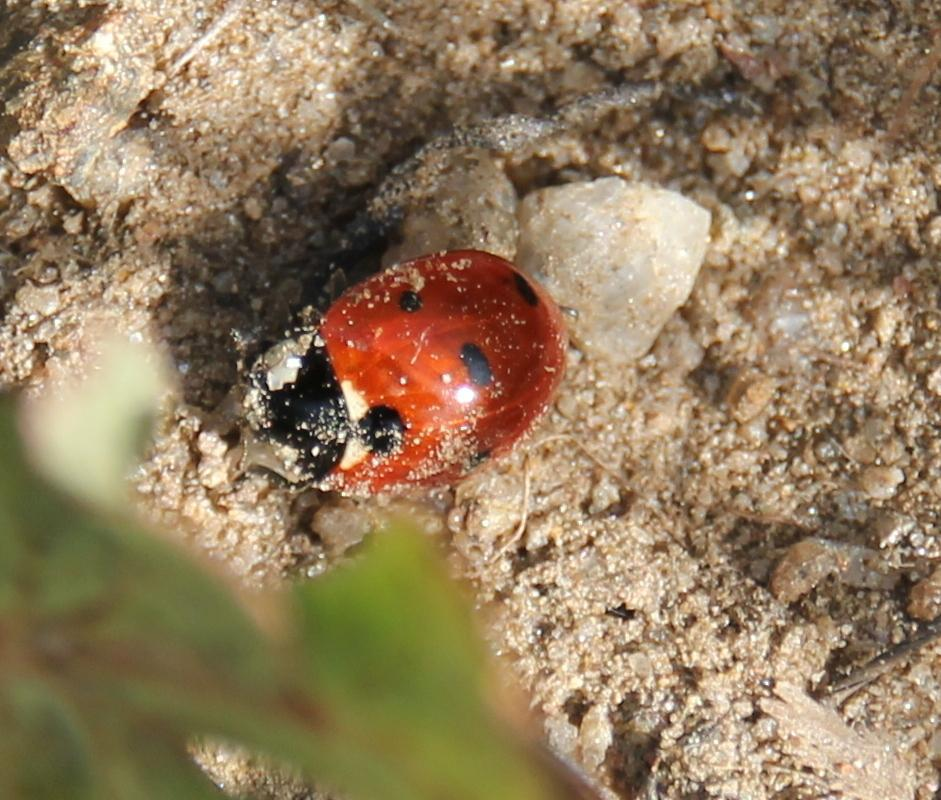ladybug: (233, 245, 585, 493)
